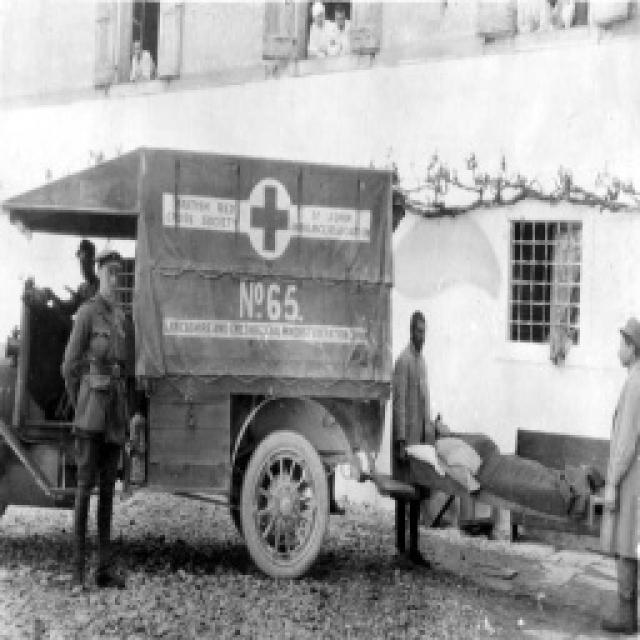emergency-vehicle: (8, 147, 384, 580)
